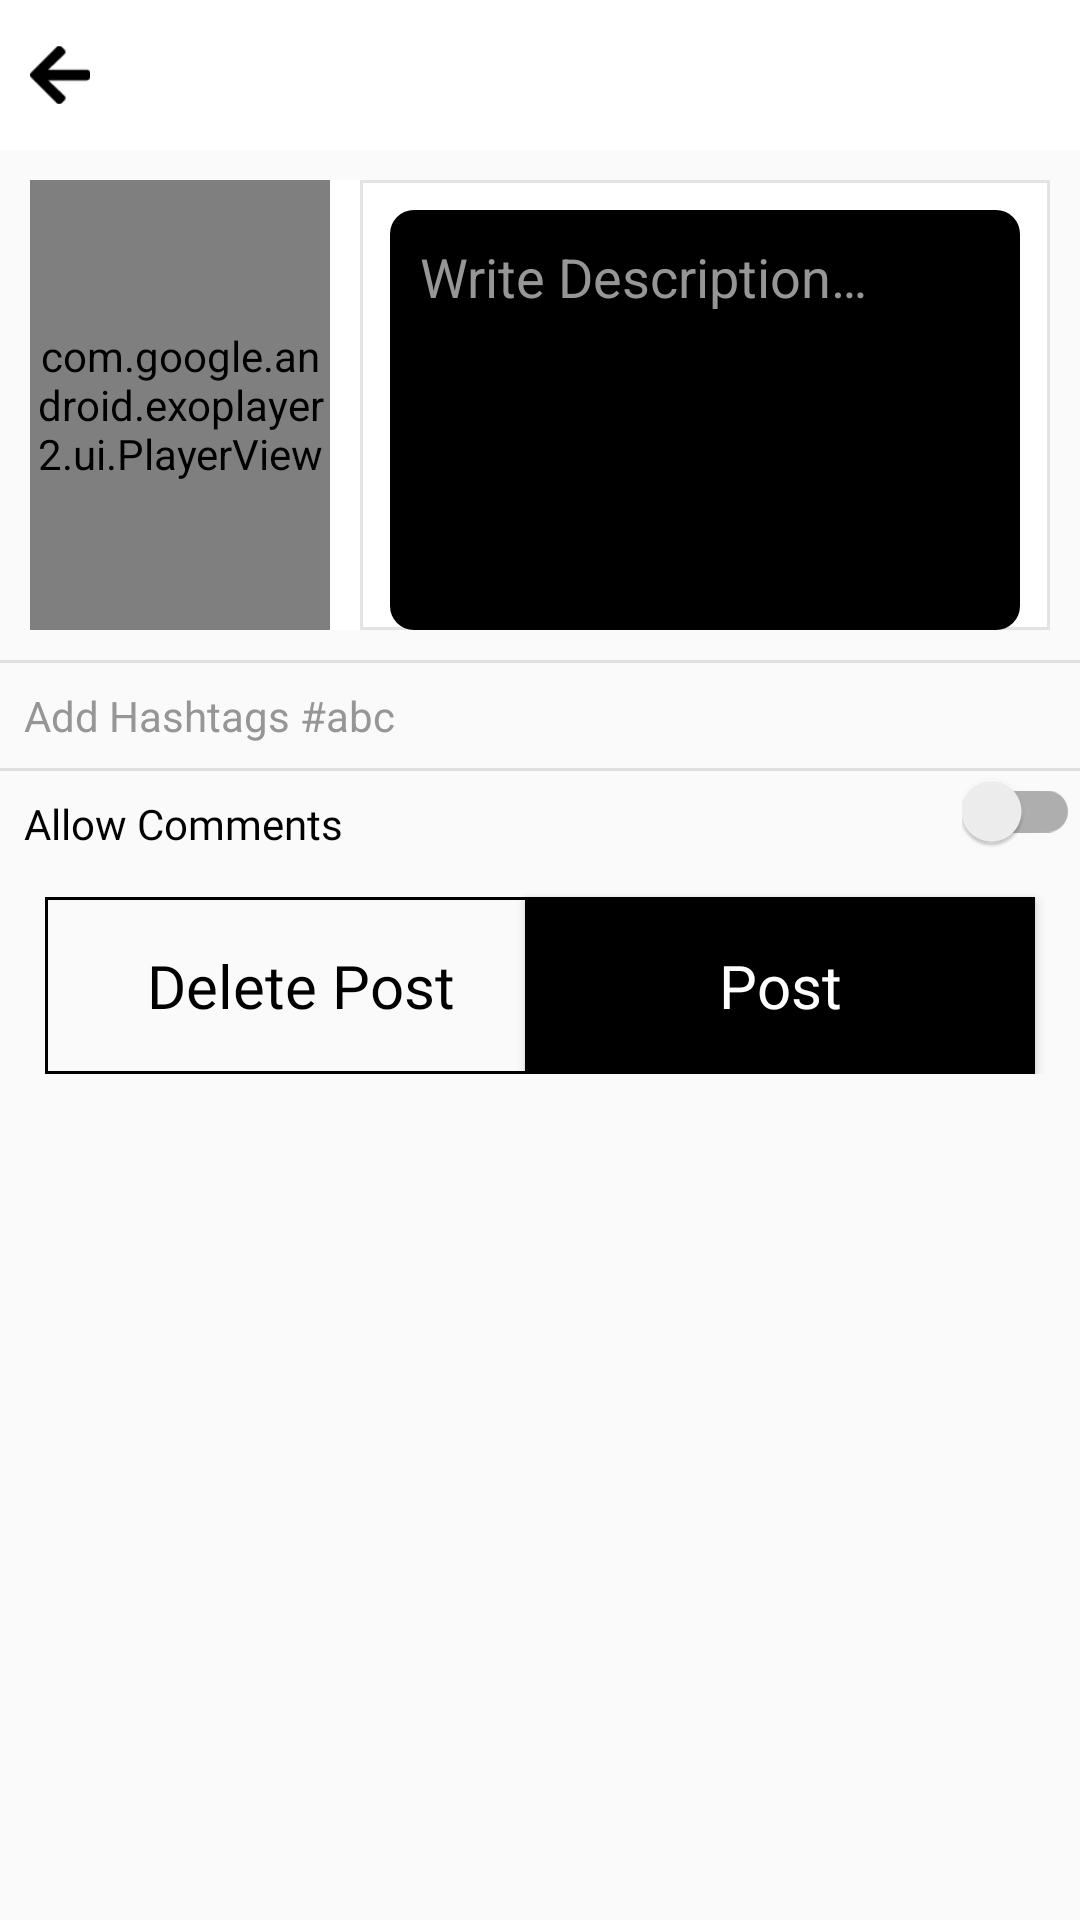

Named icons in this screenshot (1080px×1920px) and their bounding boxes, (x1, y1, x2, y2):
back: (30, 46, 90, 104)
